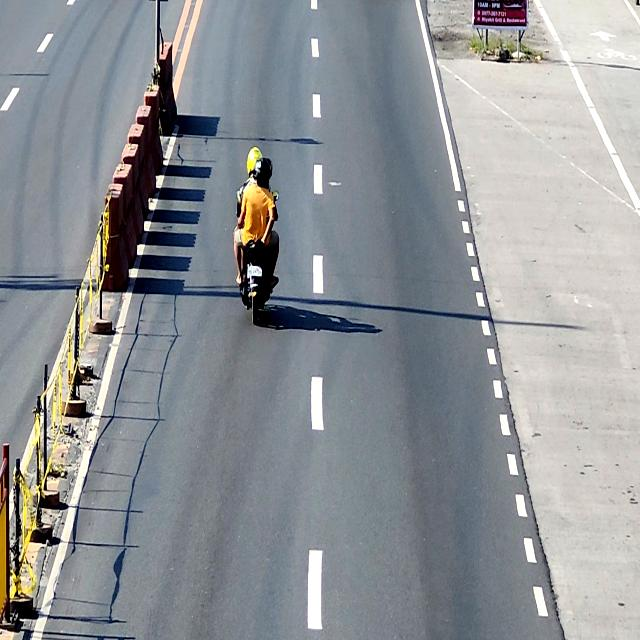License-Plate: (246, 264, 262, 278)
Motorcycle: (237, 186, 280, 327)
